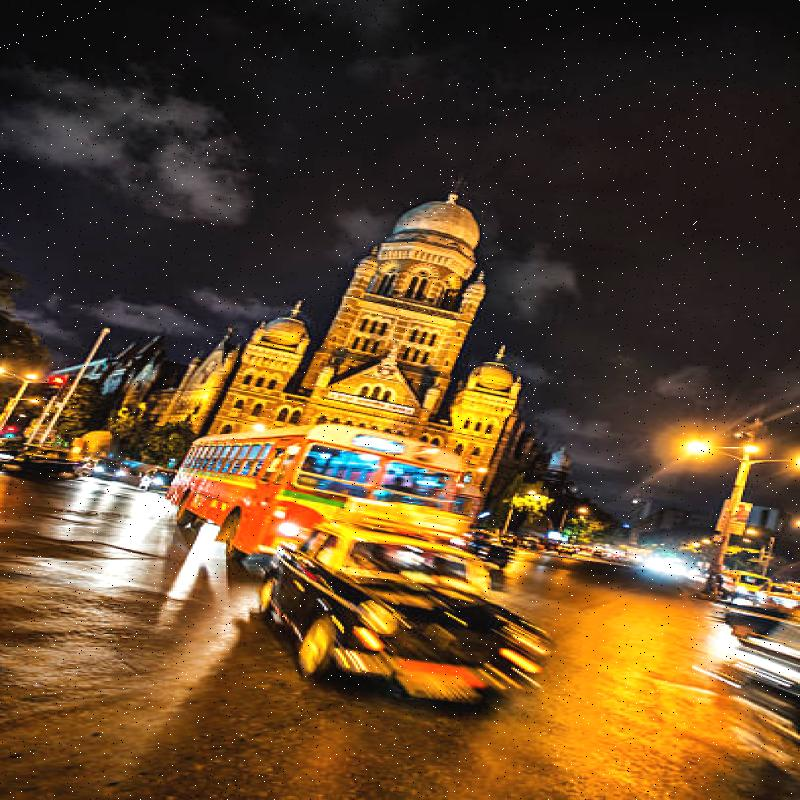car: (222, 497, 560, 711)
